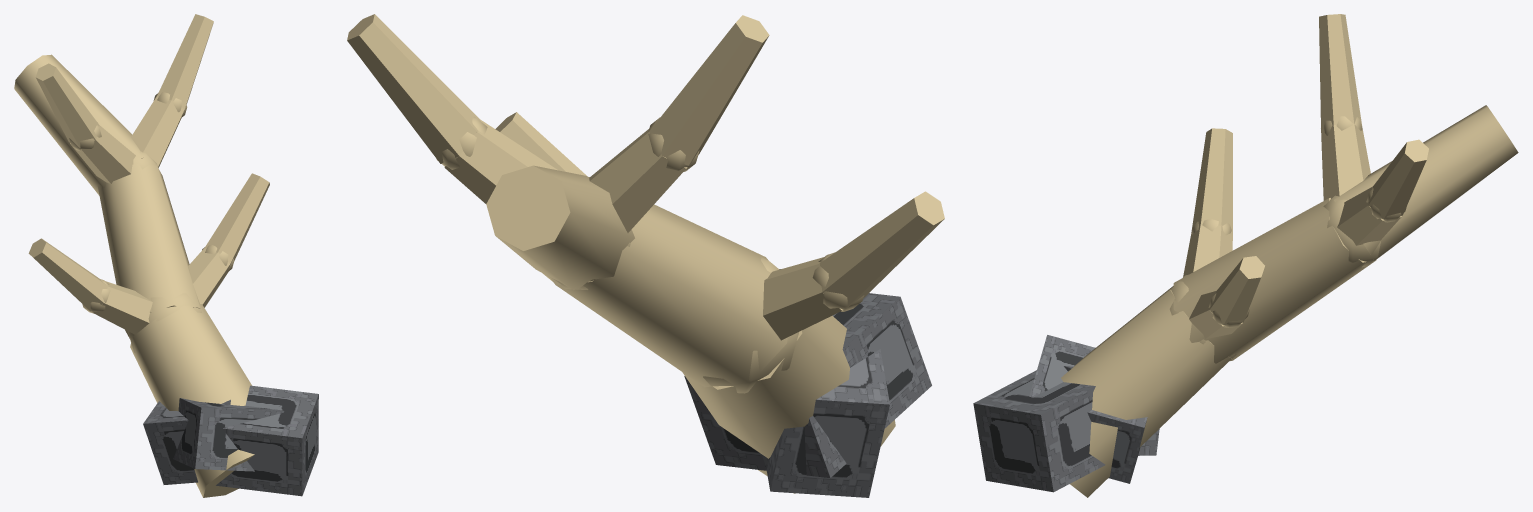
The model's file is DriftwoodSnag.glb.
3 renders of one model, left to right at view 1: azimuth 30°, elevation 25°; view 2: azimuth 150°, elevation 25°; view 3: azimuth 270°, elevation 25°, orthographic. The views are drawn at different scales.
Parts seen in each view (by area): view 1: DriftwoodSnag; view 2: DriftwoodSnag; view 3: DriftwoodSnag.
Boxes of the visible parts, <box> form: DriftwoodSnag: <box>14,14,318,497</box>; DriftwoodSnag: <box>347,14,944,497</box>; DriftwoodSnag: <box>973,14,1518,497</box>.
Bounding box in the file's own units: 4.82 × 6.44 × 7.29.
Materials: 1 (1 with a texture image).
